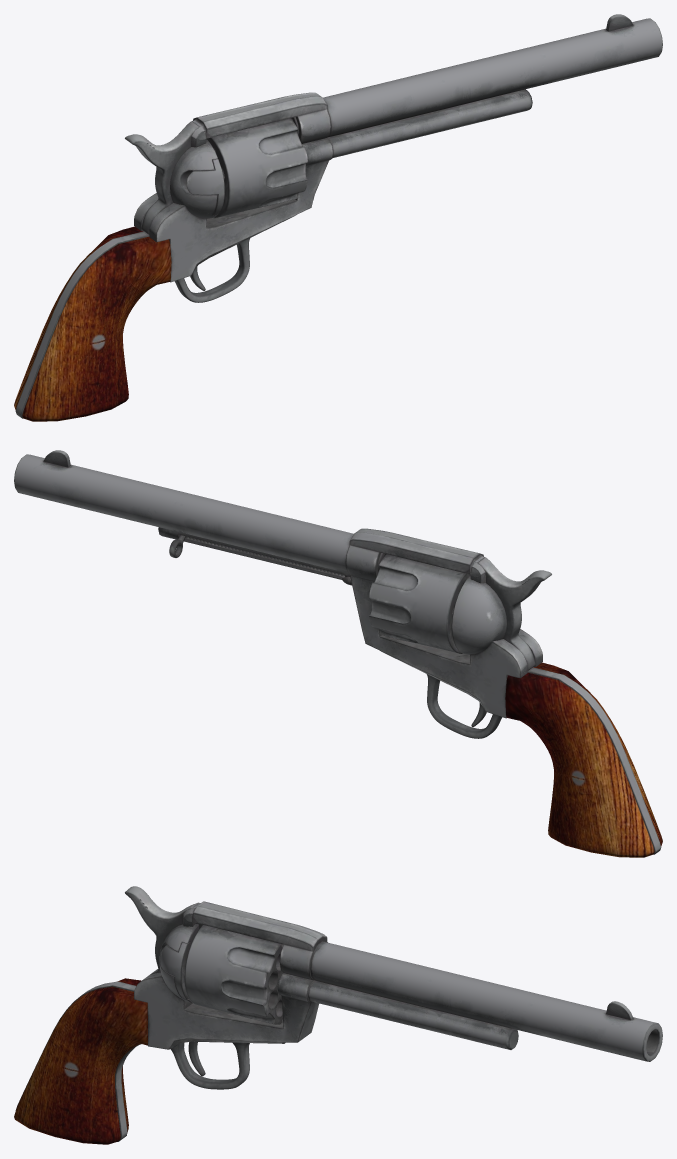
The model's file is rdr2-revolver.glb.
3 renders of one model, top to bottom at view 1: azimuth 30°, elevation 25°; view 2: azimuth 150°, elevation 25°; view 3: azimuth 330°, elevation 25°, orthographic.
Parts seen in each view (by area): view 1: Cylinder.001, Plane, Cylinder.002, Circle, Roundcube, Plane.001, Roundcube.002; view 2: Cylinder.001, Plane, Cylinder.002, Roundcube.001, Circle, Plane.001; view 3: Cylinder.001, Plane, Cylinder.002, Circle, Plane.001, Roundcube.002, Roundcube.
Boxes of the visible parts, x1,y1,x2,y2 form: Cylinder.001: [134, 14, 662, 282]; Plane: [14, 226, 171, 421]; Cylinder.002: [207, 118, 307, 217]; Circle: [125, 121, 199, 234]; Roundcube: [170, 139, 217, 218]; Plane.001: [174, 238, 250, 302]; Roundcube.002: [186, 159, 224, 215]; Cylinder.001: [14, 450, 542, 718]; Plane: [505, 662, 662, 857]; Cylinder.002: [369, 554, 469, 653]; Roundcube.001: [451, 575, 506, 654]; Circle: [477, 557, 551, 670]; Plane.001: [426, 674, 502, 738]; Cylinder.001: [134, 901, 662, 1061]; Plane: [14, 978, 147, 1144]; Cylinder.002: [184, 924, 283, 1024]; Circle: [125, 886, 198, 974]; Plane.001: [170, 1042, 249, 1089]; Roundcube.002: [160, 942, 190, 999]; Roundcube: [159, 924, 198, 1002].
Size of the model in its own units: 4.73 by 1.85 by 0.5788.
Materials: 1 (1 with a texture image).
